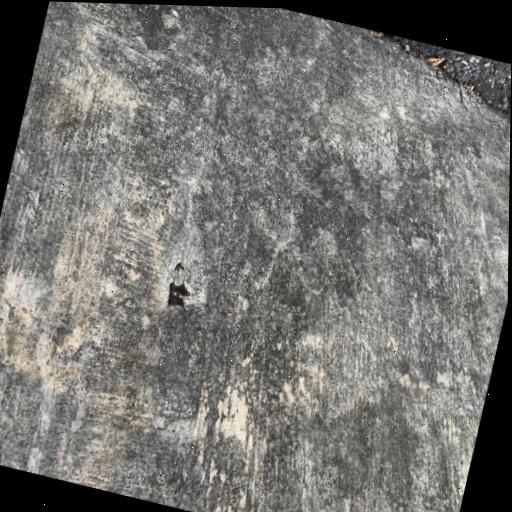exposed_rebar: (167, 281, 190, 307)
